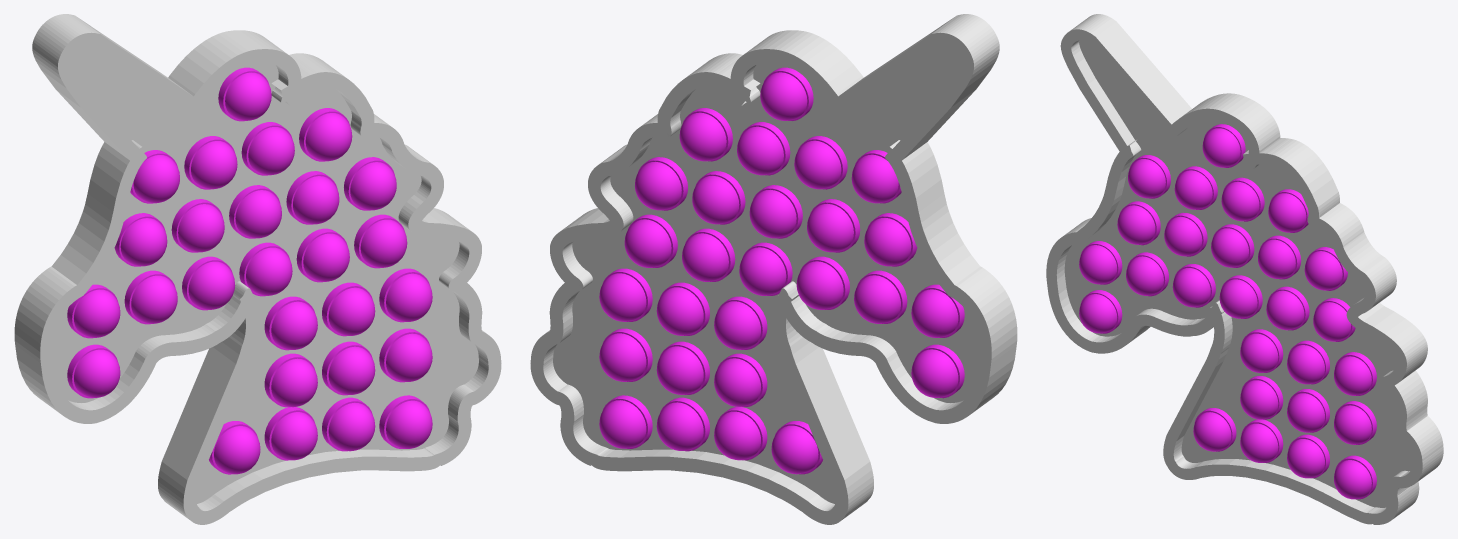
3 renders of one model, left to right at view 1: azimuth 30°, elevation 25°; view 2: azimuth 150°, elevation 25°; view 3: azimuth 330°, elevation 25°, orthographic. The views are drawn at different scales.
Parts seen in each view (by area): view 1: Extrude.003, Sphere.402, Sphere.399, Sphere.406, Sphere.396, Sphere.405, Sphere.417, Sphere.418, Sphere.401, Sphere.416, Sphere.422, Sphere.403 (+17 smaller); view 2: Extrude.003, Sphere.394, Sphere.372, Sphere.380, Sphere.384, Sphere.395, Sphere.386, Sphere.389, Sphere.392, Sphere.383, Sphere.369, Sphere.375 (+16 smaller); view 3: Extrude.003, Sphere.398, Sphere.417, Sphere.421, Sphere.404, Sphere.422, Sphere.402, Sphere.413, Sphere.418, Sphere.396, Sphere.403, Sphere.405 (+16 smaller).
Boxes of the visible parts, x1=… form: Extrude.003: x1=14, y1=14, x2=501, y2=524; Sphere.402: x1=350, y1=162, x2=396, y2=210; Sphere.399: x1=178, y1=204, x2=224, y2=252; Sphere.406: x1=360, y1=219, x2=407, y2=267; Sphere.396: x1=131, y1=275, x2=177, y2=323; Sphere.405: x1=303, y1=233, x2=349, y2=281; Sphere.417: x1=214, y1=426, x2=260, y2=474; Sphere.418: x1=191, y1=141, x2=237, y2=189; Sphere.401: x1=293, y1=176, x2=339, y2=224; Sphere.416: x1=271, y1=412, x2=317, y2=460; Sphere.422: x1=225, y1=72, x2=271, y2=120; Sphere.403: x1=188, y1=261, x2=235, y2=309; Extrude.003: x1=530, y1=14, x2=1017, y2=524; Sphere.394: x1=771, y1=425, x2=818, y2=474; Sphere.372: x1=794, y1=140, x2=841, y2=189; Sphere.380: x1=624, y1=219, x2=671, y2=267; Sphere.384: x1=911, y1=289, x2=958, y2=337; Sphere.395: x1=911, y1=349, x2=958, y2=397; Sphere.386: x1=599, y1=273, x2=646, y2=321; Sphere.389: x1=599, y1=333, x2=646, y2=381; Sphere.392: x1=599, y1=400, x2=646, y2=448; Sphere.383: x1=796, y1=261, x2=843, y2=309; Sphere.369: x1=760, y1=72, x2=807, y2=120; Sphere.375: x1=635, y1=161, x2=681, y2=210; Extrude.003: x1=1046, y1=14, x2=1443, y2=524; Sphere.398: x1=1117, y1=205, x2=1155, y2=244; Sphere.417: x1=1193, y1=412, x2=1231, y2=451; Sphere.421: x1=1268, y1=193, x2=1306, y2=232; Sphere.404: x1=1219, y1=279, x2=1257, y2=318; Sphere.422: x1=1202, y1=128, x2=1240, y2=167; Sphere.402: x1=1304, y1=251, x2=1342, y2=290; Sphere.413: x1=1240, y1=380, x2=1278, y2=419; Sphere.418: x1=1174, y1=170, x2=1212, y2=209; Sphere.396: x1=1126, y1=256, x2=1163, y2=295; Sphere.403: x1=1172, y1=268, x2=1210, y2=307; Sphere.405: x1=1266, y1=290, x2=1304, y2=330.
Bounding box in the file's own units: 24.12 × 26.02 × 3.69.
